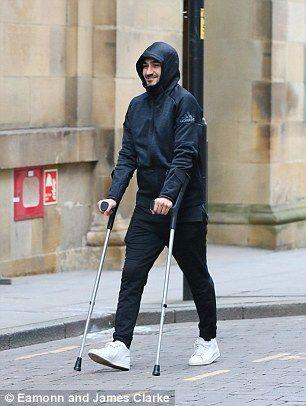crutches: (74, 42, 220, 377)
